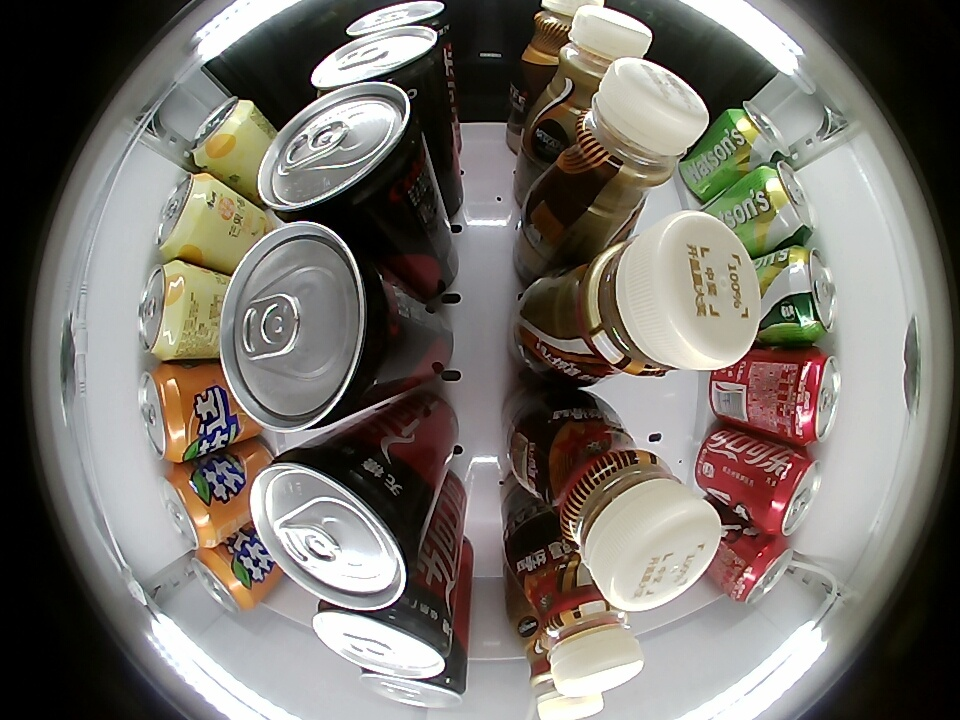fenda: (138, 362, 190, 462), (159, 467, 220, 549), (190, 549, 256, 613)
kafei: (538, 412, 723, 611), (556, 211, 763, 388), (558, 58, 708, 224), (538, 564, 645, 698), (551, 6, 653, 108), (517, 624, 607, 719), (529, 0, 604, 60)
kele: (757, 453, 824, 536), (788, 351, 842, 445), (726, 534, 795, 605)
lingdukele: (216, 222, 402, 429), (250, 436, 423, 610), (258, 81, 427, 221), (313, 596, 454, 679), (309, 23, 448, 98), (358, 639, 470, 709), (346, 2, 449, 42)
mangguoxiaolao: (137, 260, 195, 361), (154, 173, 219, 260), (190, 96, 256, 170)
quchenshixiangcao: (782, 245, 838, 342), (758, 159, 816, 244), (725, 100, 793, 167)
